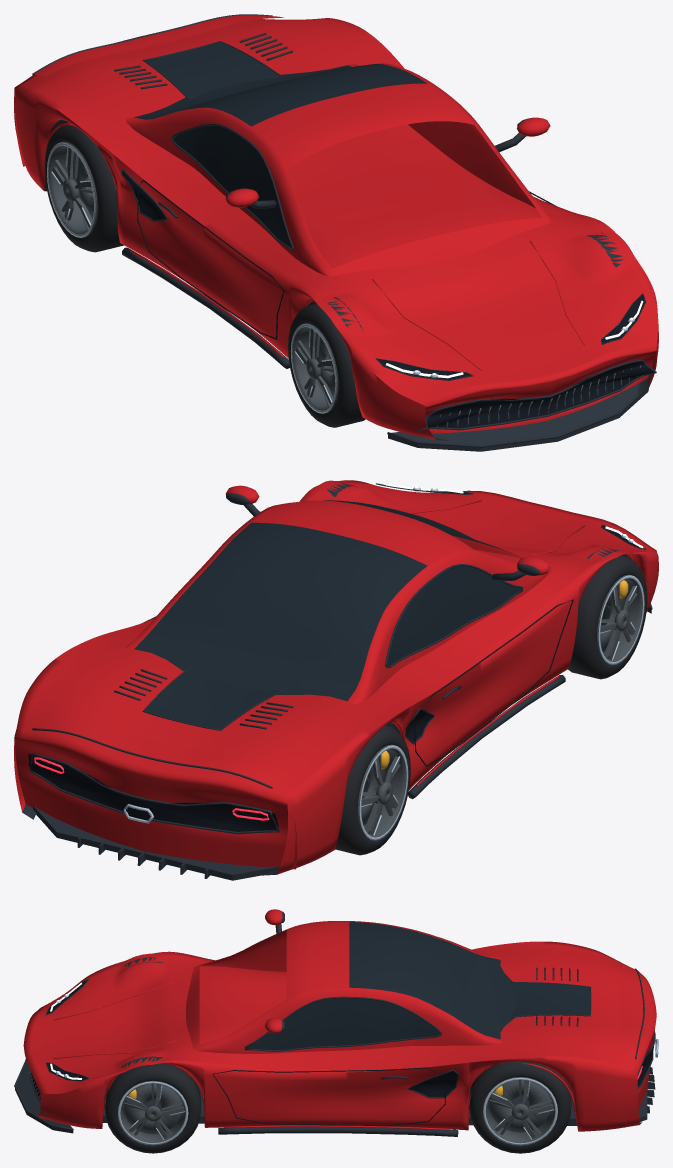
File: Ferrari_LOD0.glb
3 views of the same model, one above another, from view 1: azimuth 30°, elevation 25°; view 2: azimuth 150°, elevation 25°; view 3: azimuth 270°, elevation 25° (orthographic). The views are drawn at different scales.
Parts seen in each view (by area): view 1: Ferrari_Body, Wheel_Rear_L, Wheel_Front_L; view 2: Ferrari_Body, Wheel_Front_L, Wheel_Rear_L; view 3: Ferrari_Body, Wheel_Rear_R, Wheel_Front_R.
Boxes of the visible parts, x1=… form: Ferrari_Body: x1=14, y1=14, x2=658, y2=451; Wheel_Rear_L: x1=44, y1=122, x2=123, y2=252; Wheel_Front_L: x1=288, y1=304, x2=365, y2=427; Ferrari_Body: x1=14, y1=480, x2=658, y2=880; Wheel_Front_L: x1=568, y1=555, x2=647, y2=679; Wheel_Rear_L: x1=335, y1=725, x2=410, y2=855; Ferrari_Body: x1=14, y1=909, x2=658, y2=1136; Wheel_Rear_R: x1=469, y1=1061, x2=571, y2=1153; Wheel_Front_R: x1=105, y1=1063, x2=200, y2=1153.
Bounding box in the file's own units: 2.02 × 1.19 × 4.57.
